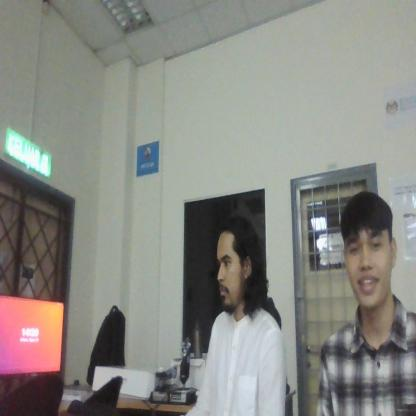Open-Eyes: (343, 231, 389, 261), (214, 248, 236, 274)
